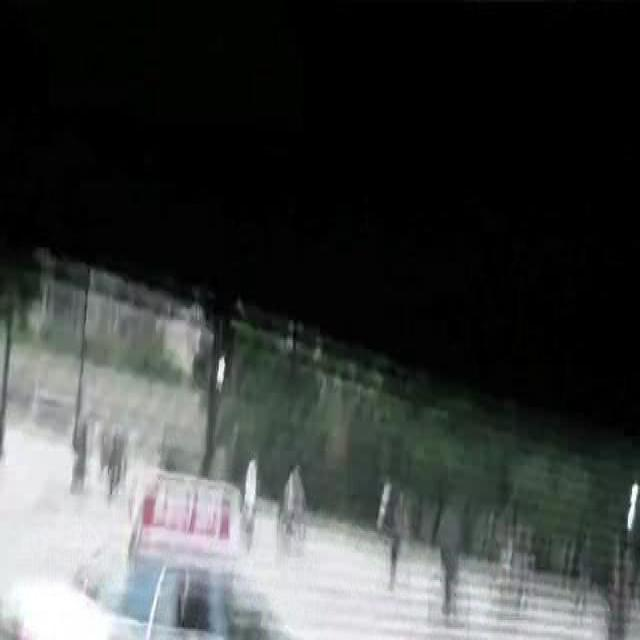other: (9, 434, 372, 626)
